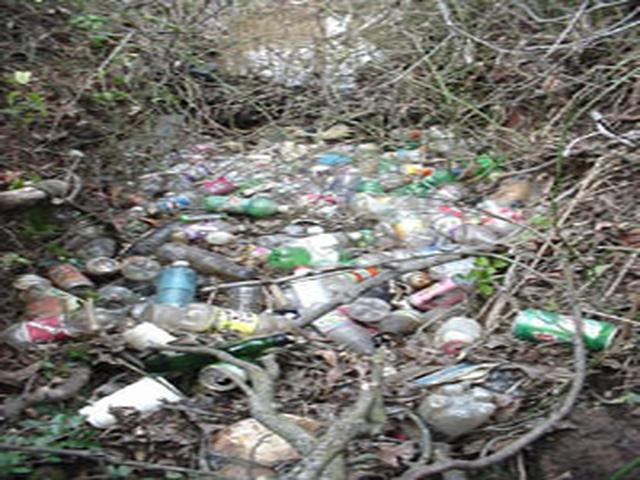garbage: (166, 155, 499, 455)
